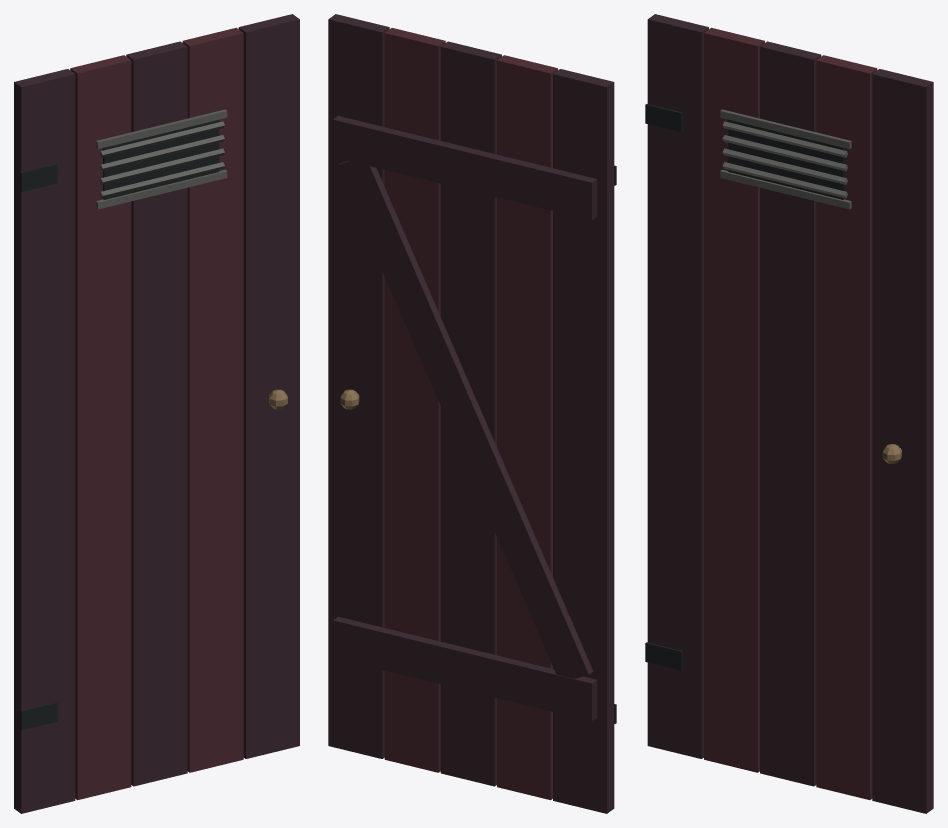
The model's file is usa_debara.glb.
3 renders of one model, left to right at view 1: azimuth 30°, elevation 25°; view 2: azimuth 150°, elevation 25°; view 3: azimuth 330°, elevation 25°, orthographic.
Parts seen in each view (by area): view 1: Usa; view 2: Usa; view 3: Usa.
Part boxes in pixels (x1,y1,x2,y2): Usa: [14, 14, 299, 813]; Usa: [328, 14, 616, 813]; Usa: [645, 14, 933, 813].
Bounding box in the file's own units: 0.777 × 1.93 × 0.1426.
